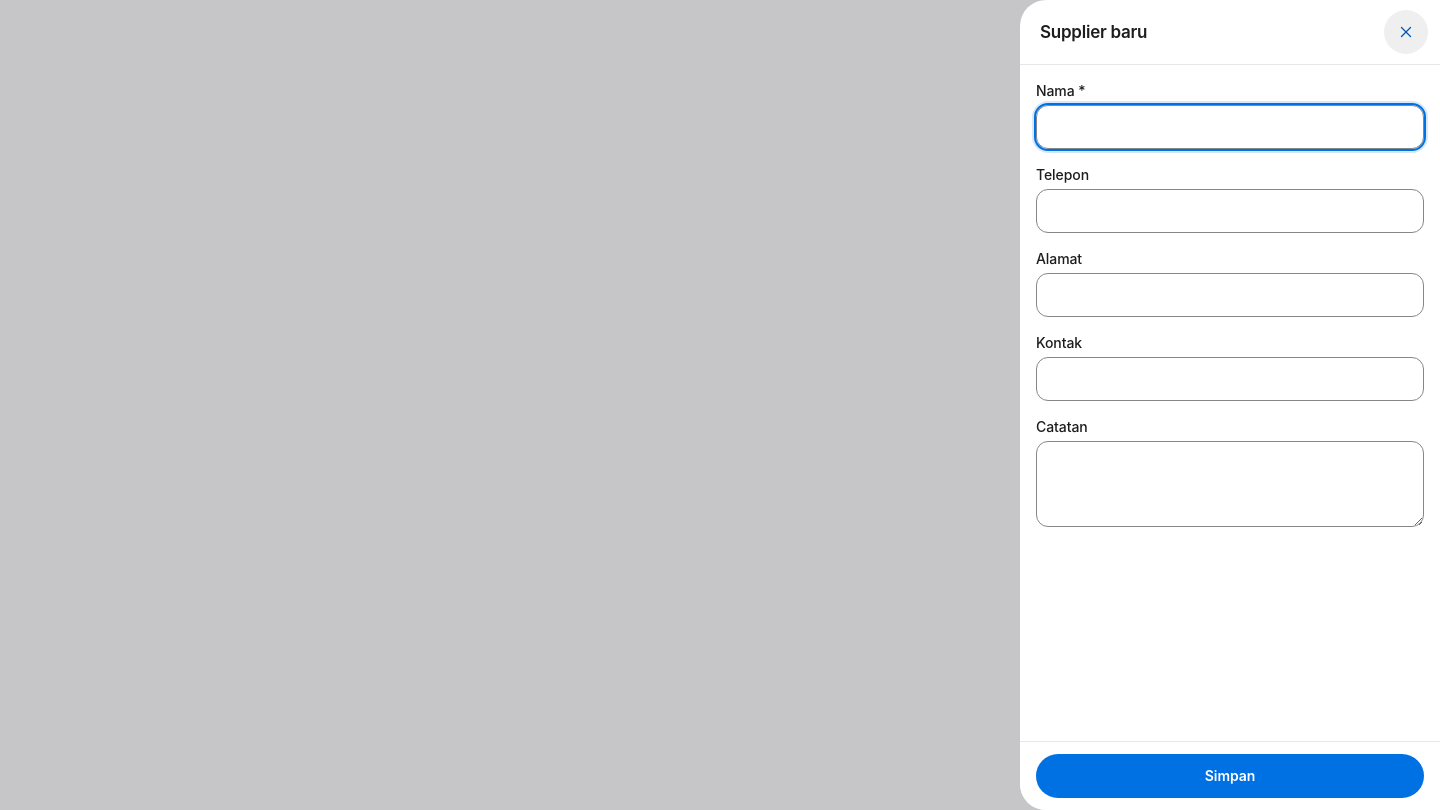
Test: SupplierSheet: create › rejects an empty nama
Click the button "Simpan". click: coordinates (1230, 776)
box: [1036,754,1424,798]
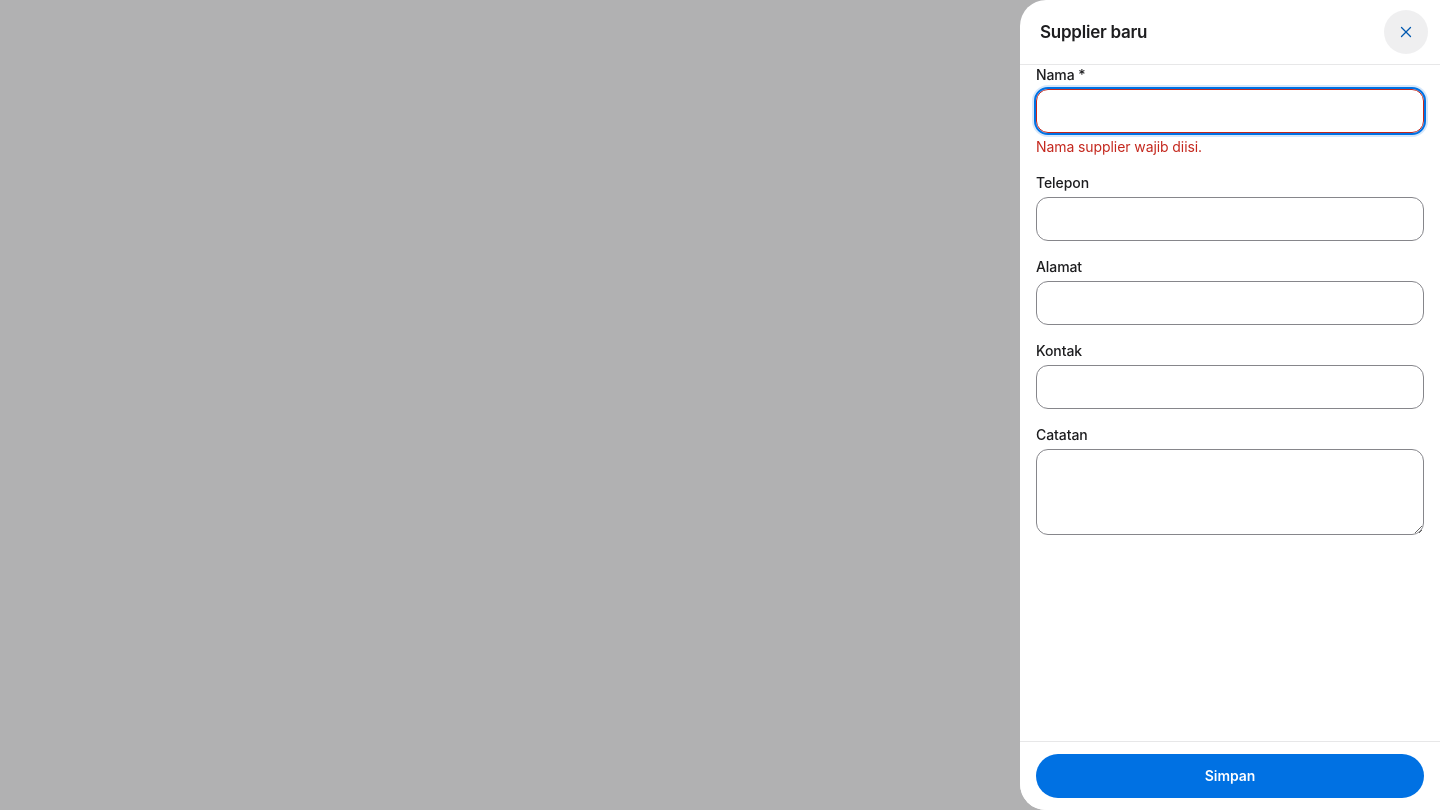
Expected: the text "Nama supplier wajib diisi." is shown, [1036,138,1202,155]
